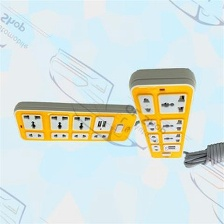three_eye_plug: (125, 65, 199, 160), (10, 99, 139, 143)
